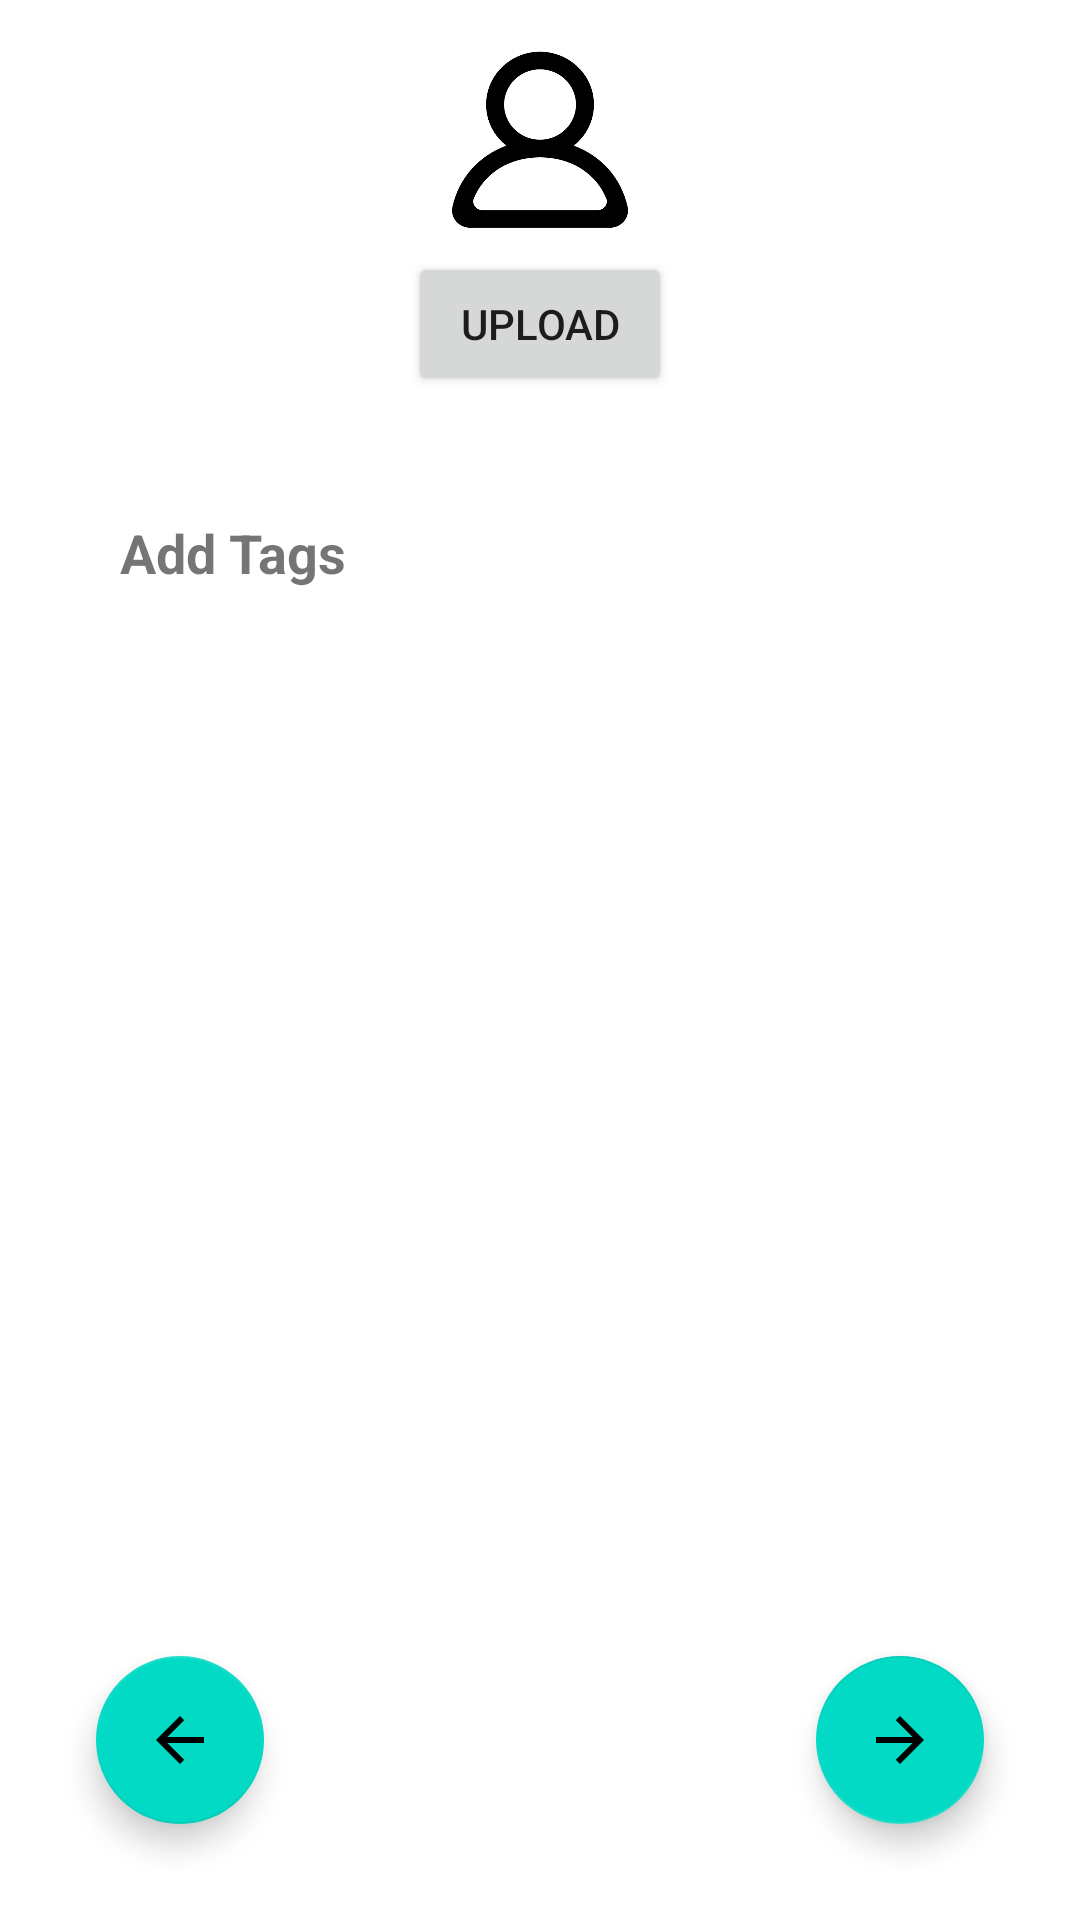

Icon click points for this 1080px×1920px phone screenshot, format [x,y]:
no profile: [540,139]
